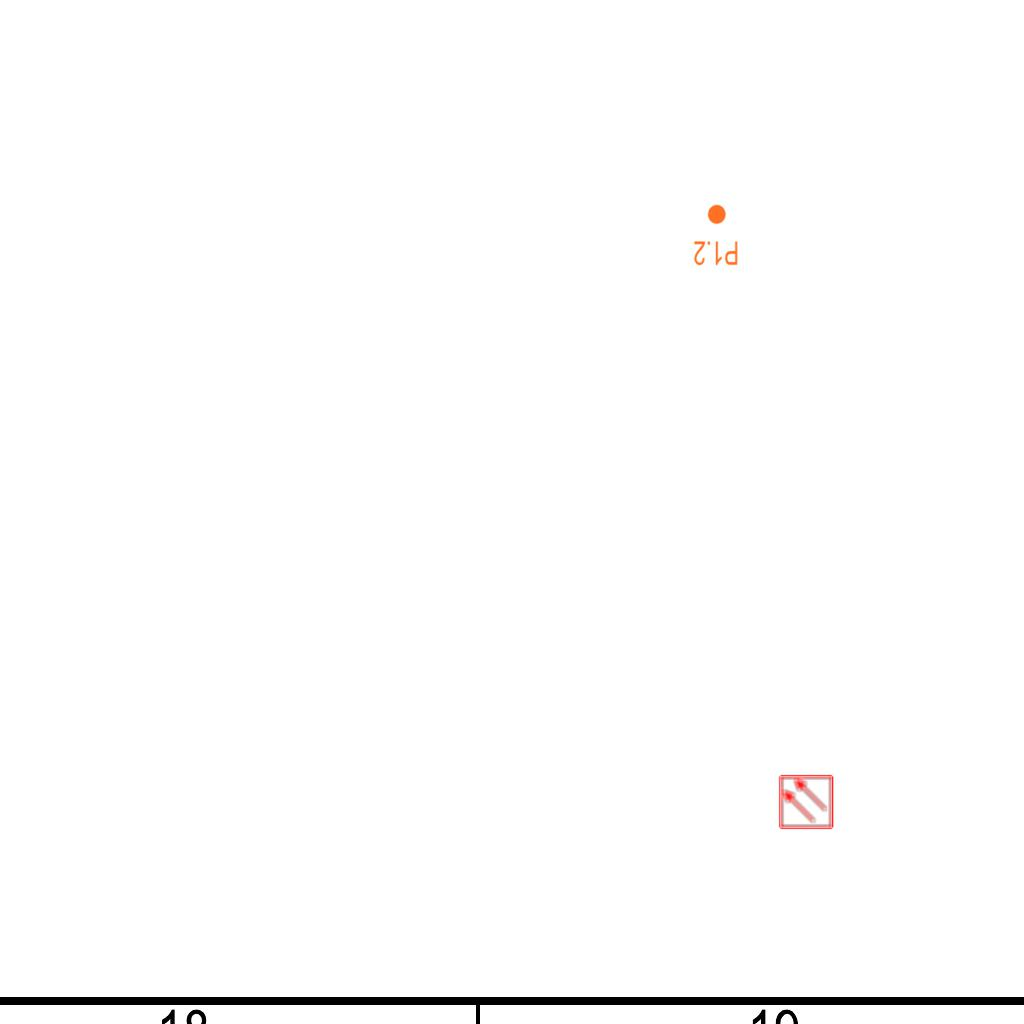Downlight_LED_Einbauleuchten_Flur: (693, 203, 739, 267)
RMO_Rauchmelder_optischer: (778, 774, 834, 830)
